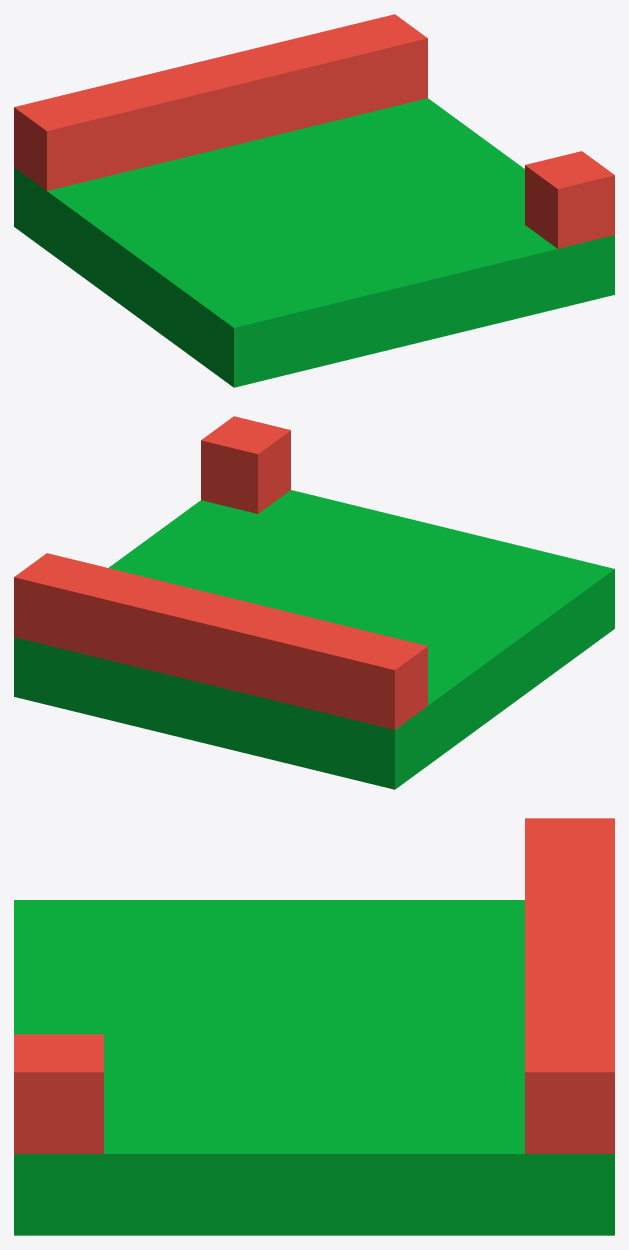
The model's file is straight_corner_left.fbx.
3 views of the same model, one above another, from view 1: azimuth 30°, elevation 25°; view 2: azimuth 150°, elevation 25°; view 3: azimuth 270°, elevation 25° (orthographic). The views are drawn at different scales.
Parts seen in each view (by area): view 1: green_straight_single_edge.001, side, side.001; view 2: green_straight_single_edge.001, side, side.001; view 3: green_straight_single_edge.001, side, side.001.
Boxes of the visible parts, <box> form: green_straight_single_edge.001: <box>14,98,614,387</box>; side: <box>14,14,427,190</box>; side.001: <box>525,151,614,248</box>; green_straight_single_edge.001: <box>14,490,614,789</box>; side: <box>14,553,427,729</box>; side.001: <box>201,416,290,513</box>; green_straight_single_edge.001: <box>14,900,614,1235</box>; side: <box>525,818,614,1153</box>; side.001: <box>14,1034,103,1153</box>.
Bounding box in the file's own units: 200 × 60 × 200.
